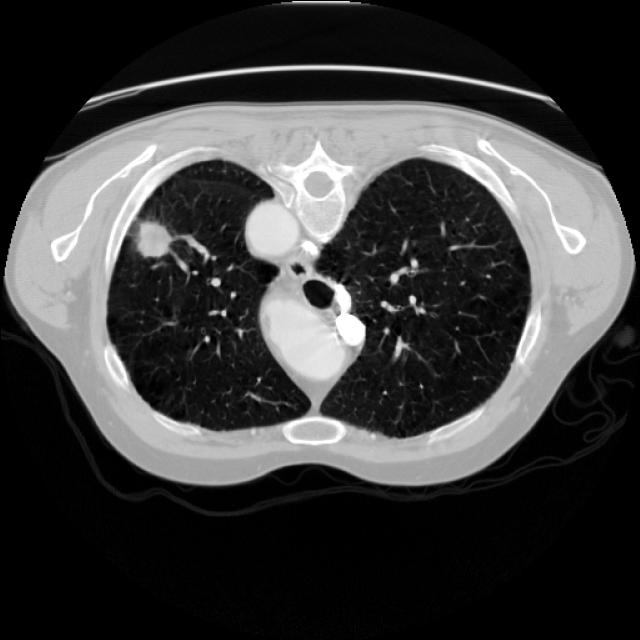nodule: (118, 204, 190, 276)
